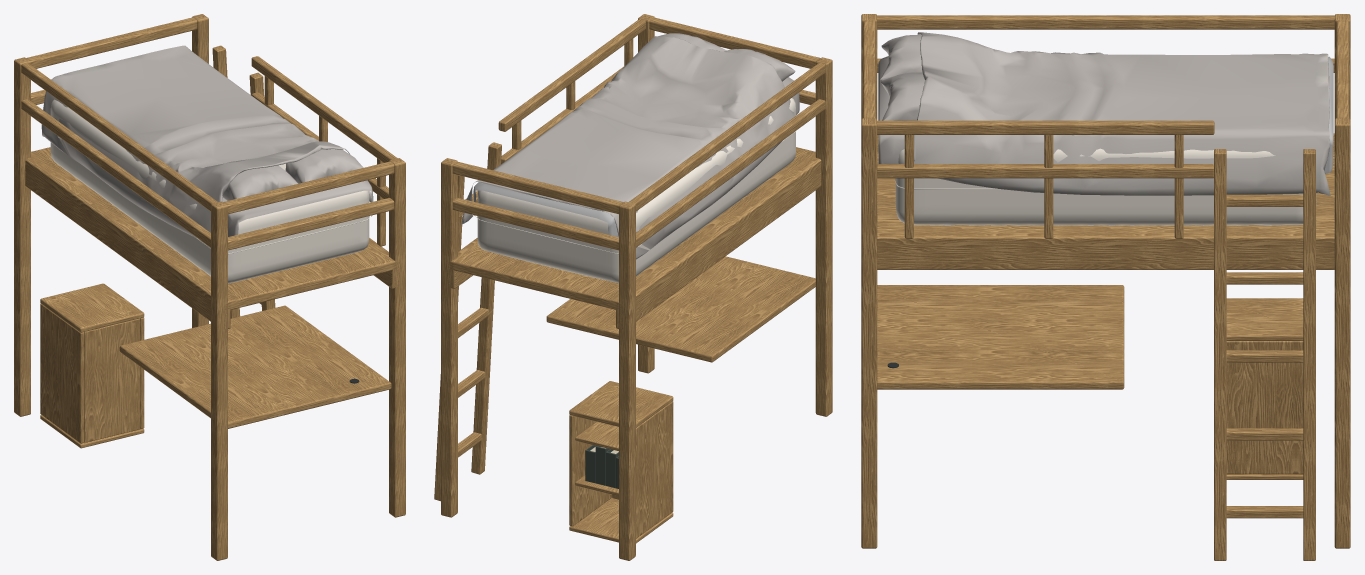
Rendered from residential-loft-study-bed.glb.
The picture shows the model from 3 angles, left to right: view 1: azimuth 30°, elevation 25°; view 2: azimuth 150°, elevation 25°; view 3: azimuth 270°, elevation 25°; orthographic projection. The views are drawn at different scales.
Parts seen in each view (by area): view 1: oak_surfaces, heritage_linen_surfaces, ivory_surfaces; view 2: oak_surfaces, heritage_linen_surfaces, ivory_surfaces, book_surfaces; view 3: oak_surfaces, heritage_linen_surfaces, ivory_surfaces.
Boxes of the visible parts, x1,y1,x2,y2 form: oak_surfaces: (14, 14, 405, 560); heritage_linen_surfaces: (41, 45, 373, 248); ivory_surfaces: (50, 99, 369, 283); oak_surfaces: (434, 14, 832, 560); heritage_linen_surfaces: (461, 33, 799, 259); ivory_surfaces: (476, 98, 796, 283); book_surfaces: (585, 445, 618, 488); oak_surfaces: (861, 14, 1350, 560); heritage_linen_surfaces: (878, 32, 1333, 195); ivory_surfaces: (895, 148, 1316, 225).
Size of the model in its own units: 1.28 by 2.11 by 2.14.
Materials: 6 (2 with a texture image).
